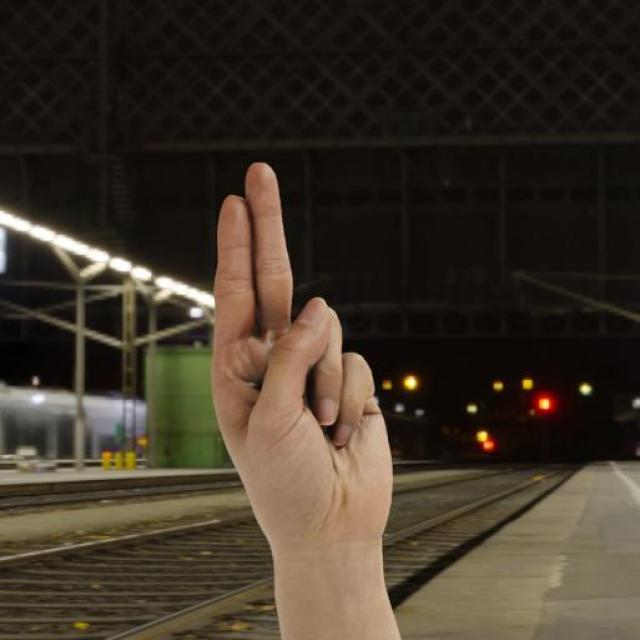U: (206, 156, 405, 542)
